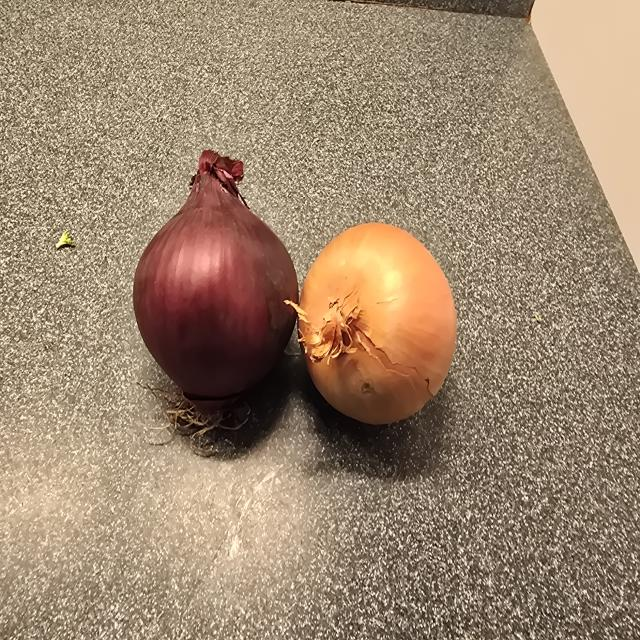Onion: (133, 150, 299, 415), (294, 223, 456, 425)
